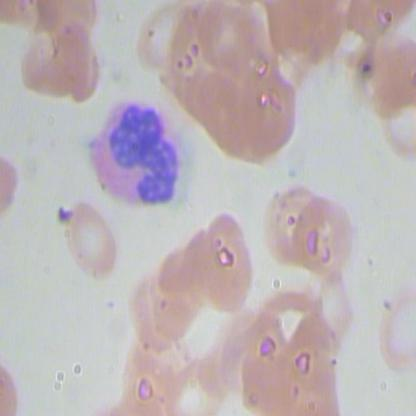RBC: (226, 320, 301, 415), (228, 64, 302, 160), (54, 199, 125, 288), (254, 179, 325, 268), (287, 190, 358, 278), (304, 263, 375, 351), (197, 206, 256, 311), (193, 1, 269, 79), (44, 19, 106, 114), (346, 31, 415, 116), (115, 337, 186, 415), (179, 212, 225, 316), (142, 249, 188, 353), (159, 233, 204, 337), (124, 252, 169, 356), (129, 1, 189, 77), (369, 77, 415, 160), (374, 287, 415, 376)
WBC: (84, 94, 182, 218)
